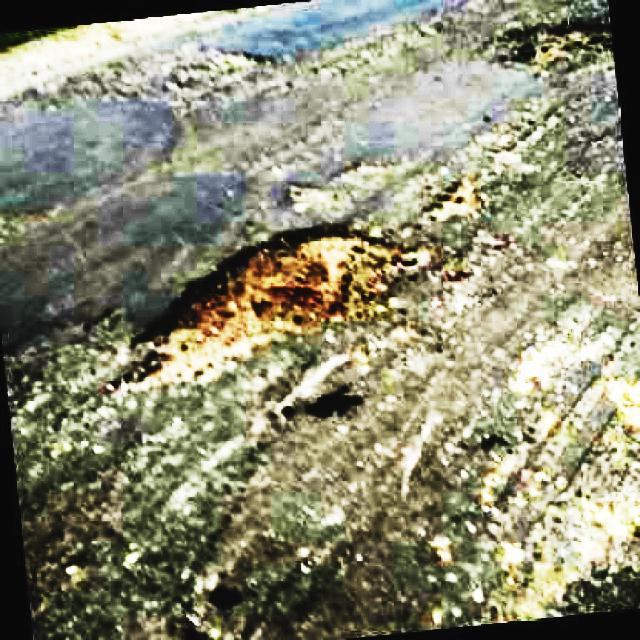pothole: (117, 223, 412, 391), (500, 17, 617, 69), (156, 46, 262, 100)
